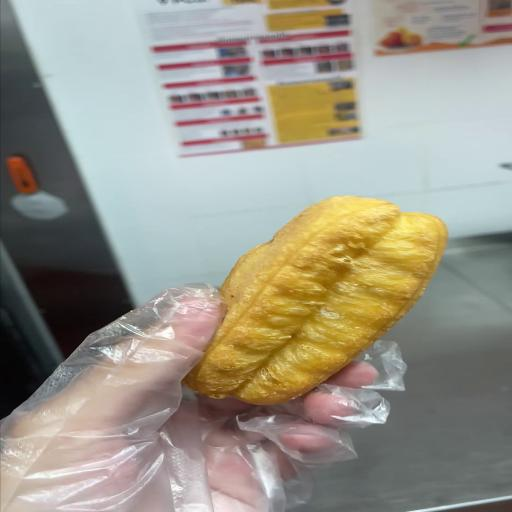brand_golden_good: (185, 196, 447, 405)
